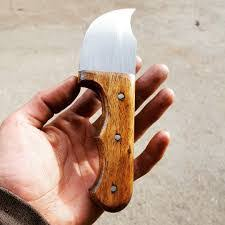Knife: (77, 5, 144, 214)
